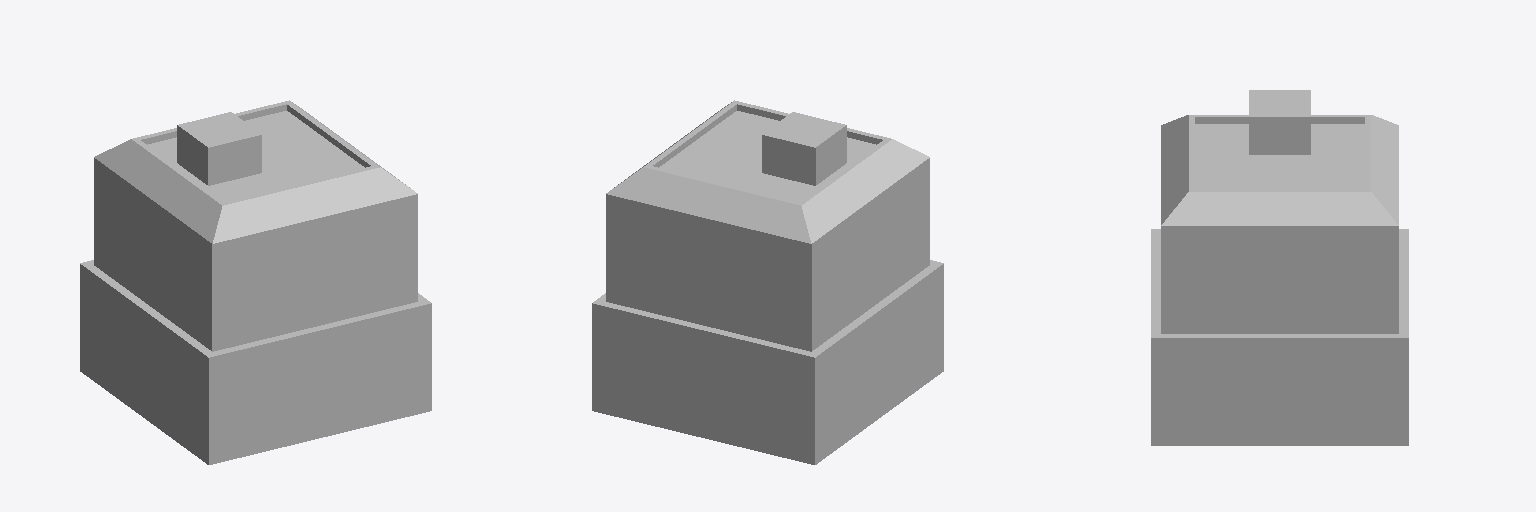
3 renders of one model, left to right at view 1: azimuth 30°, elevation 25°; view 2: azimuth 150°, elevation 25°; view 3: azimuth 270°, elevation 25°, orthographic.
Parts seen in each view (by area): view 1: Highrise_8; view 2: Highrise_8; view 3: Highrise_8.
Boxes of the visible parts, box(x1,y1,x2,y2) form: Highrise_8: box(80, 100, 431, 464); Highrise_8: box(592, 100, 943, 464); Highrise_8: box(1151, 90, 1408, 445).
Bounding box in the file's own units: 217 × 251 × 217.